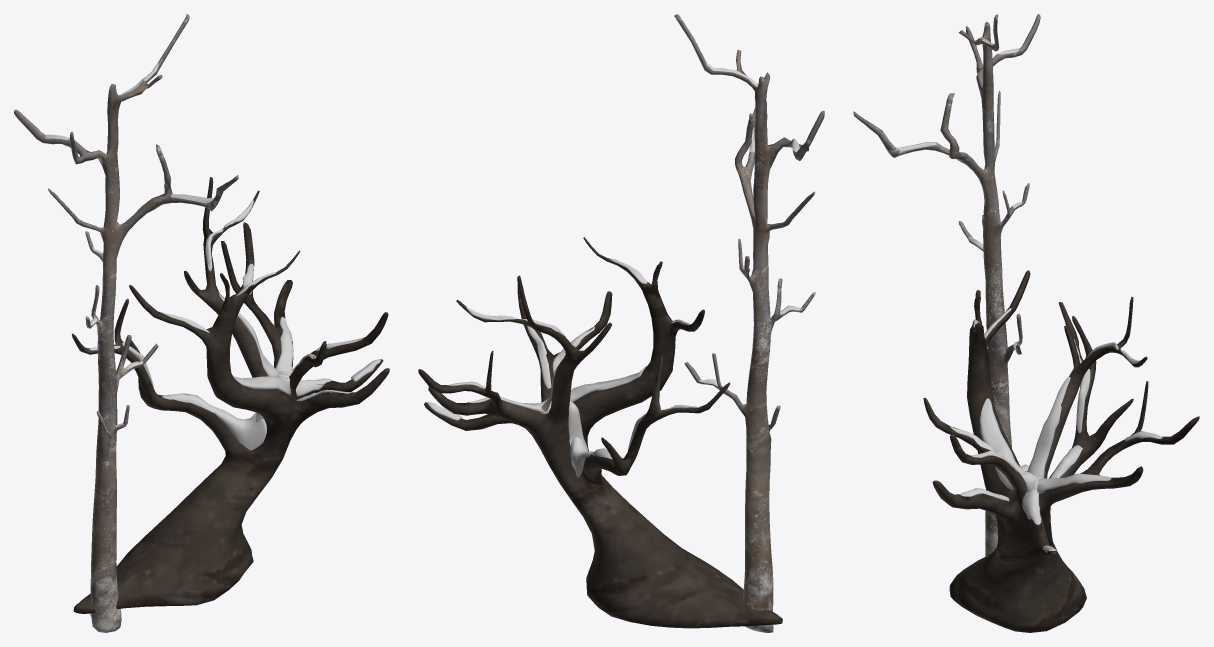
The model's file is 2tress.fbx.
The picture shows the model from 3 angles, left to right: view 1: azimuth 30°, elevation 25°; view 2: azimuth 150°, elevation 25°; view 3: azimuth 270°, elevation 25°; orthographic projection.
Visible parts, largest first — view 1: tree, birch tree, Object012, snowbirch; view 2: tree, birch tree, Object012; view 3: tree, birch tree, Object012.
Boxes of the visible parts, box(x1,y1,x2,y2) form: tree: box(71, 177, 389, 613); birch tree: box(14, 14, 238, 632); Object012: box(89, 200, 380, 450); snowbirch: box(45, 63, 213, 427); tree: box(418, 237, 782, 628); birch tree: box(674, 14, 824, 632); Object012: box(427, 258, 700, 478); tree: box(923, 270, 1199, 632); birch tree: box(853, 14, 1040, 556); Object012: box(950, 308, 1162, 552).
Size of the model in its own units: 29.72 by 44.92 by 23.3.
